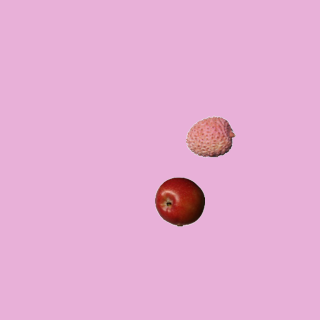Apple Braeburn: (154, 176, 204, 226)
Lychee: (185, 111, 235, 161)
